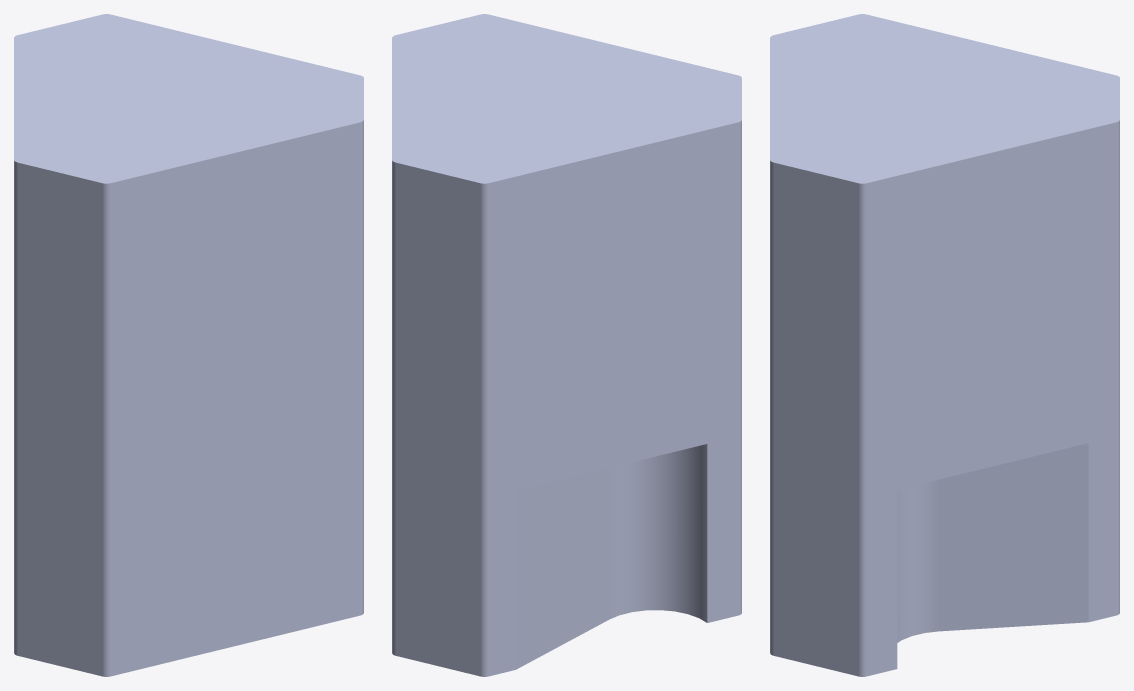
The picture shows the model from 3 angles, left to right: view 1: azimuth 30°, elevation 25°; view 2: azimuth 150°, elevation 25°; view 3: azimuth 270°, elevation 25°; orthographic projection.
Visible parts, largest first — view 1: Body1; view 2: Body1; view 3: Body1.
Part boxes in pixels (x1,y1,x2,y2): Body1: [14, 14, 363, 676]; Body1: [392, 14, 741, 676]; Body1: [770, 14, 1119, 676].
Bounding box in the file's own units: 2528 × 3425 × 2202.
